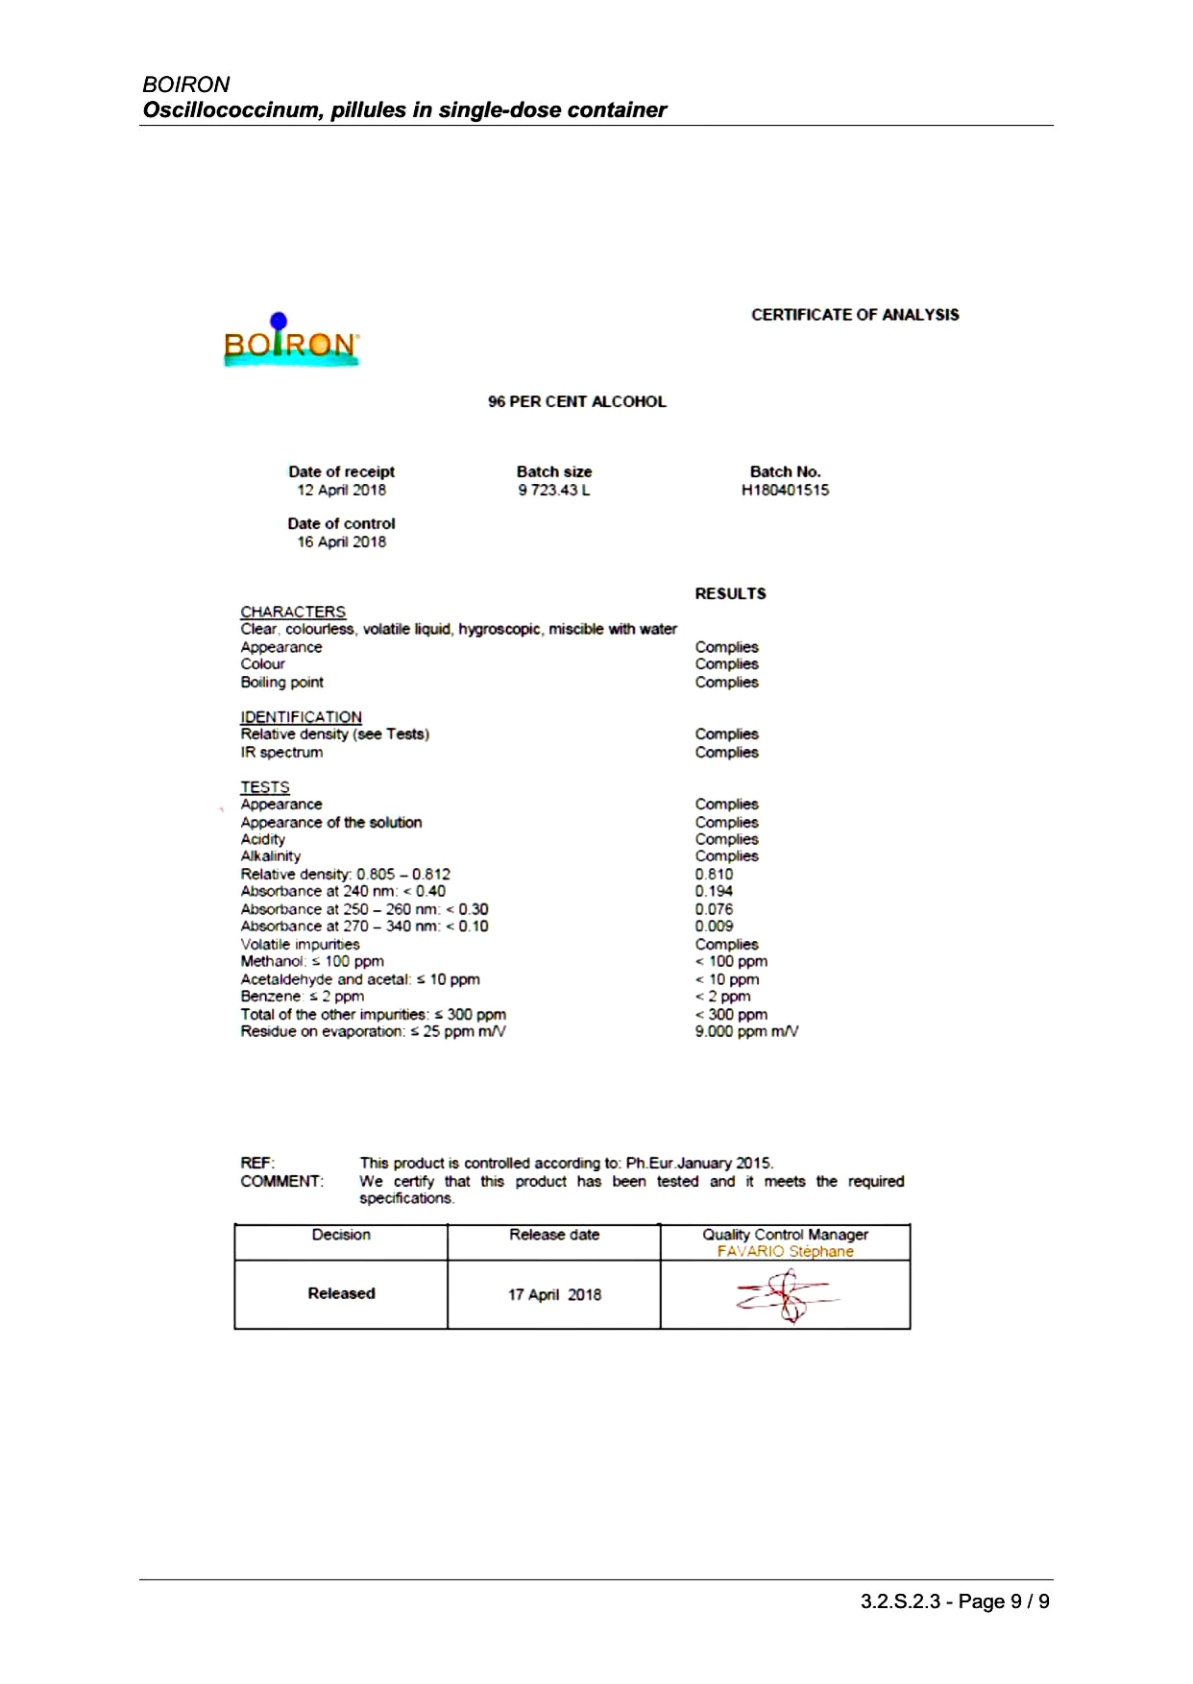full_lined: (227, 1219, 921, 1337)
nolines: (227, 443, 961, 1206)
